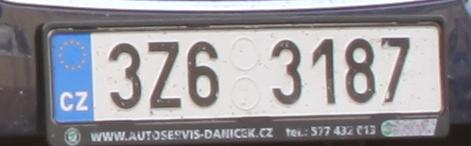1: (312, 38, 337, 108)
3: (104, 42, 144, 110), (270, 39, 303, 109)
6: (187, 39, 220, 108)
7: (380, 36, 412, 107)
8: (345, 37, 377, 104)
Z: (147, 38, 184, 110)
